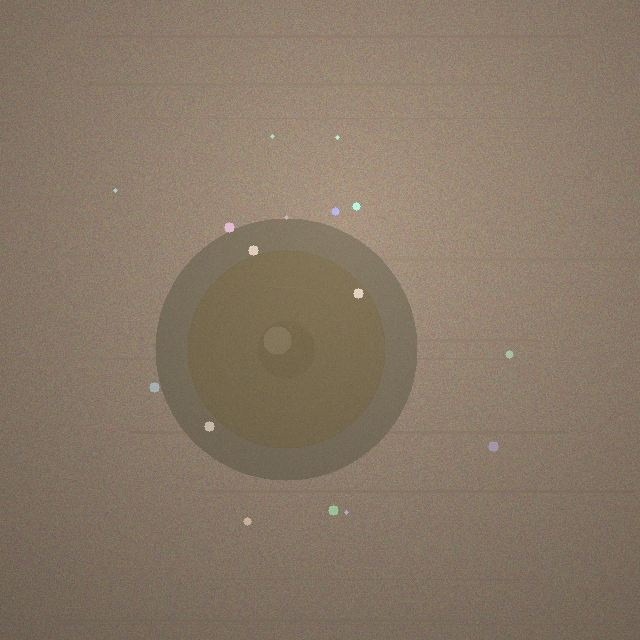overburn: (155, 218, 417, 480)
